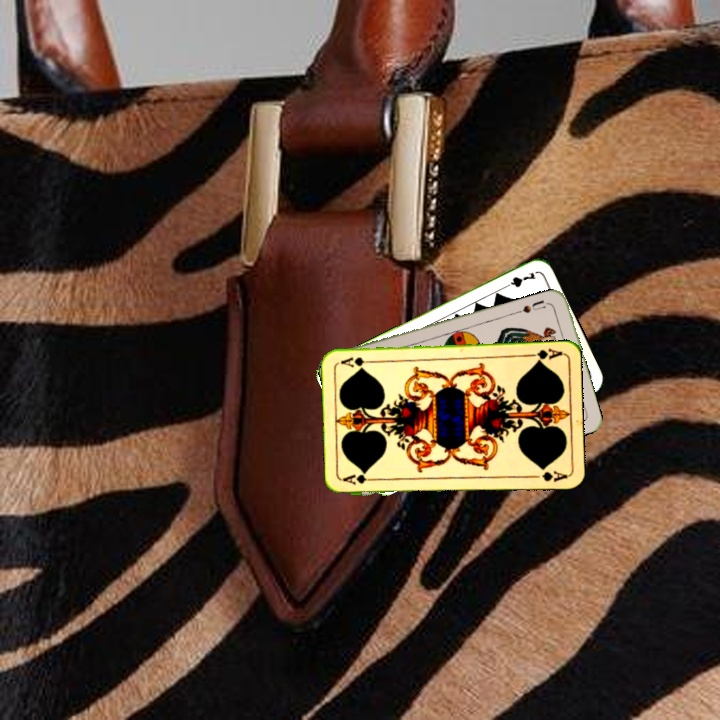G7: (498, 268, 538, 292)
GA: (524, 344, 564, 364), (339, 471, 380, 488)
SU: (519, 296, 548, 316)
